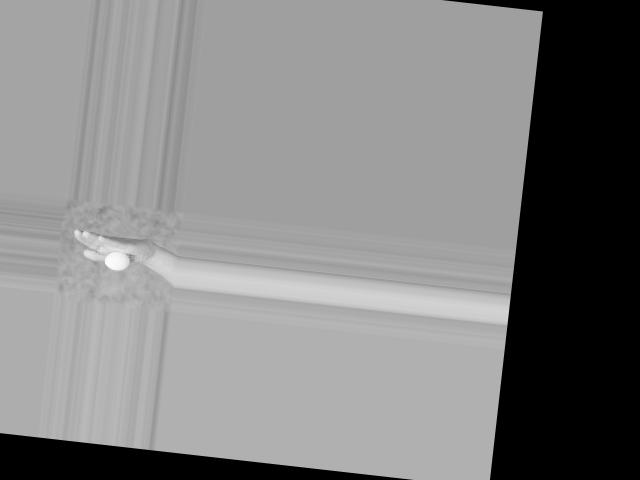egg: (104, 250, 131, 272)
